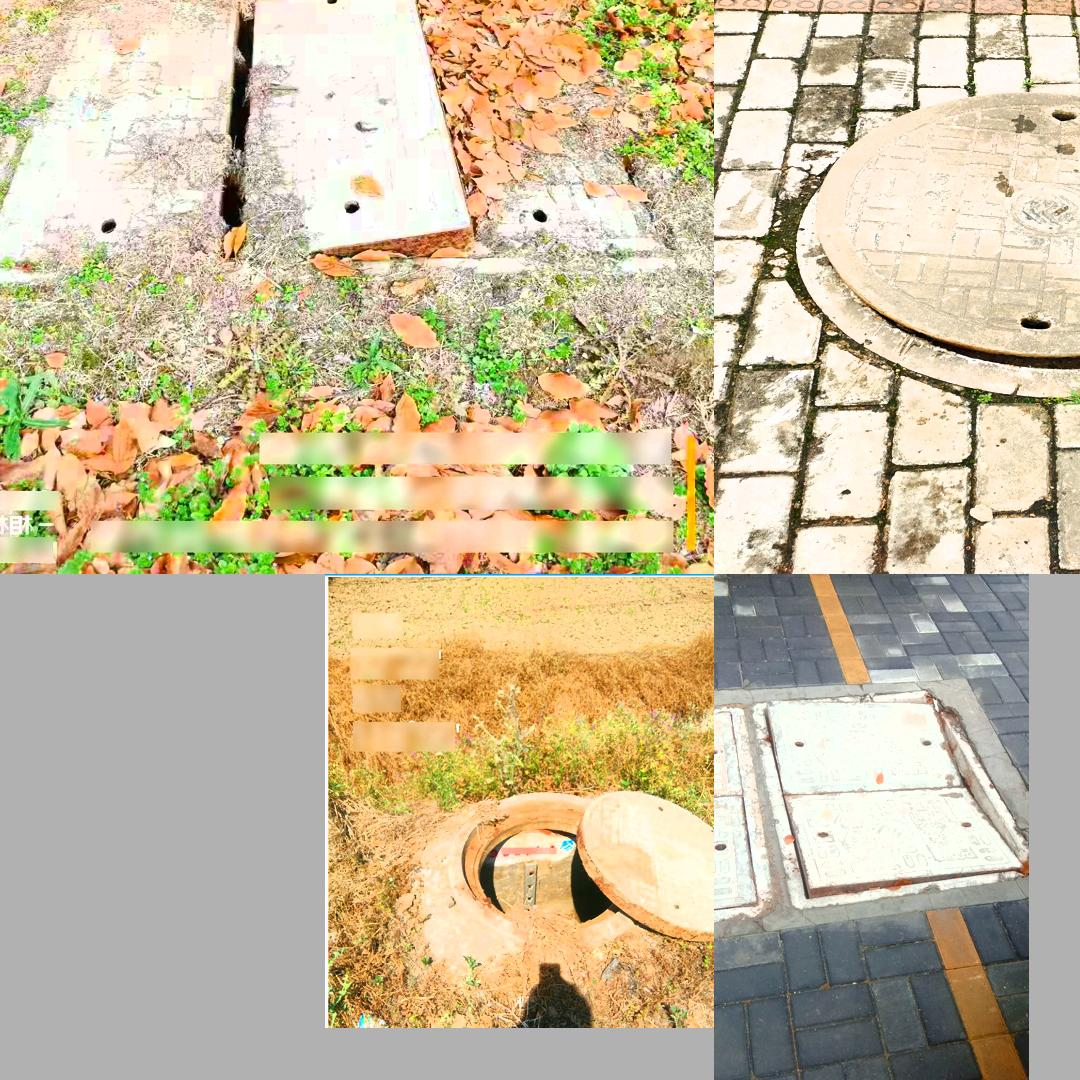uncovered: (0, 0, 699, 284), (795, 93, 1080, 401), (752, 689, 1025, 909), (440, 770, 714, 956)
